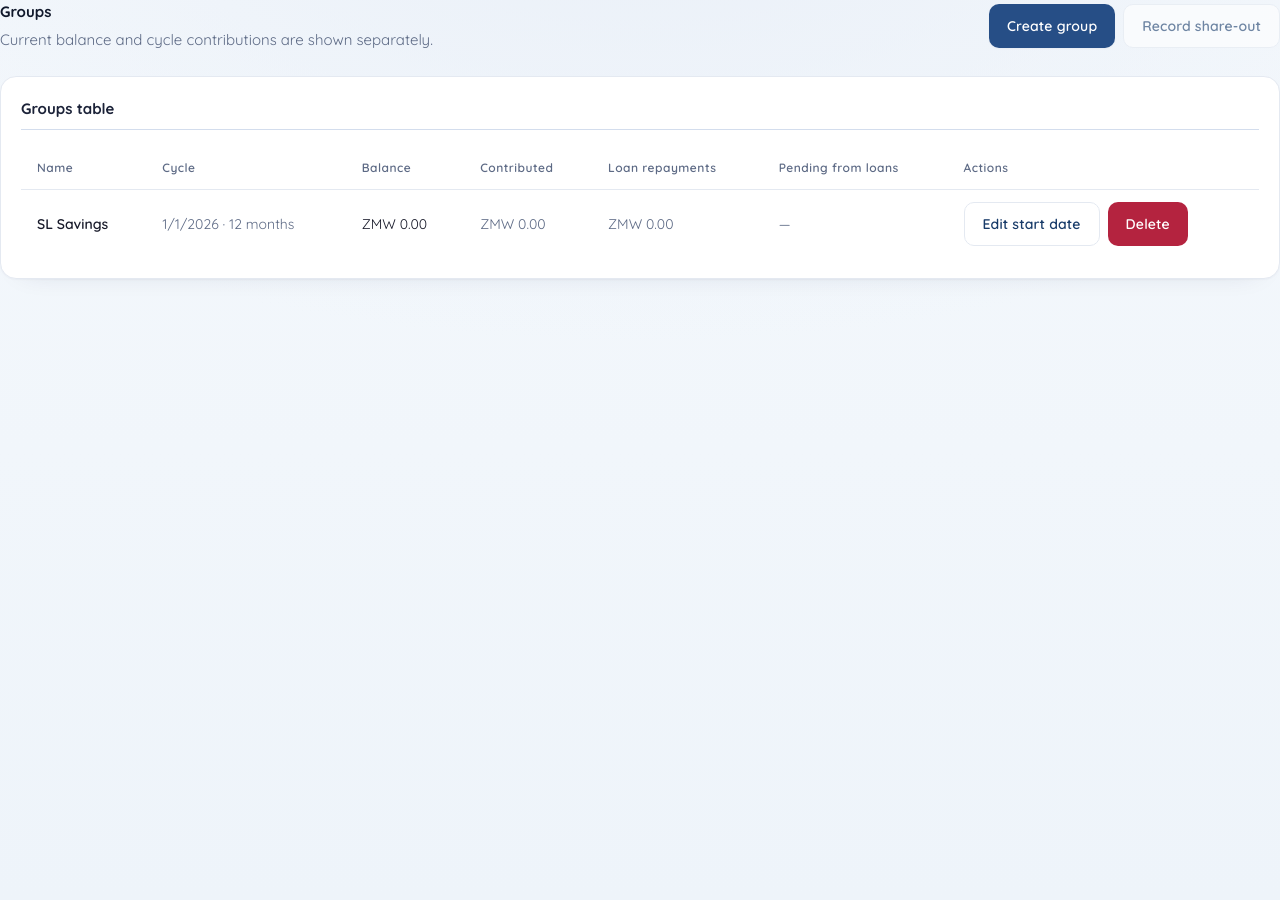
Test: savings group settings › deletes a group that has no savings recorded
Click the button "Delete": (1148, 224) [1108,202,1188,246]
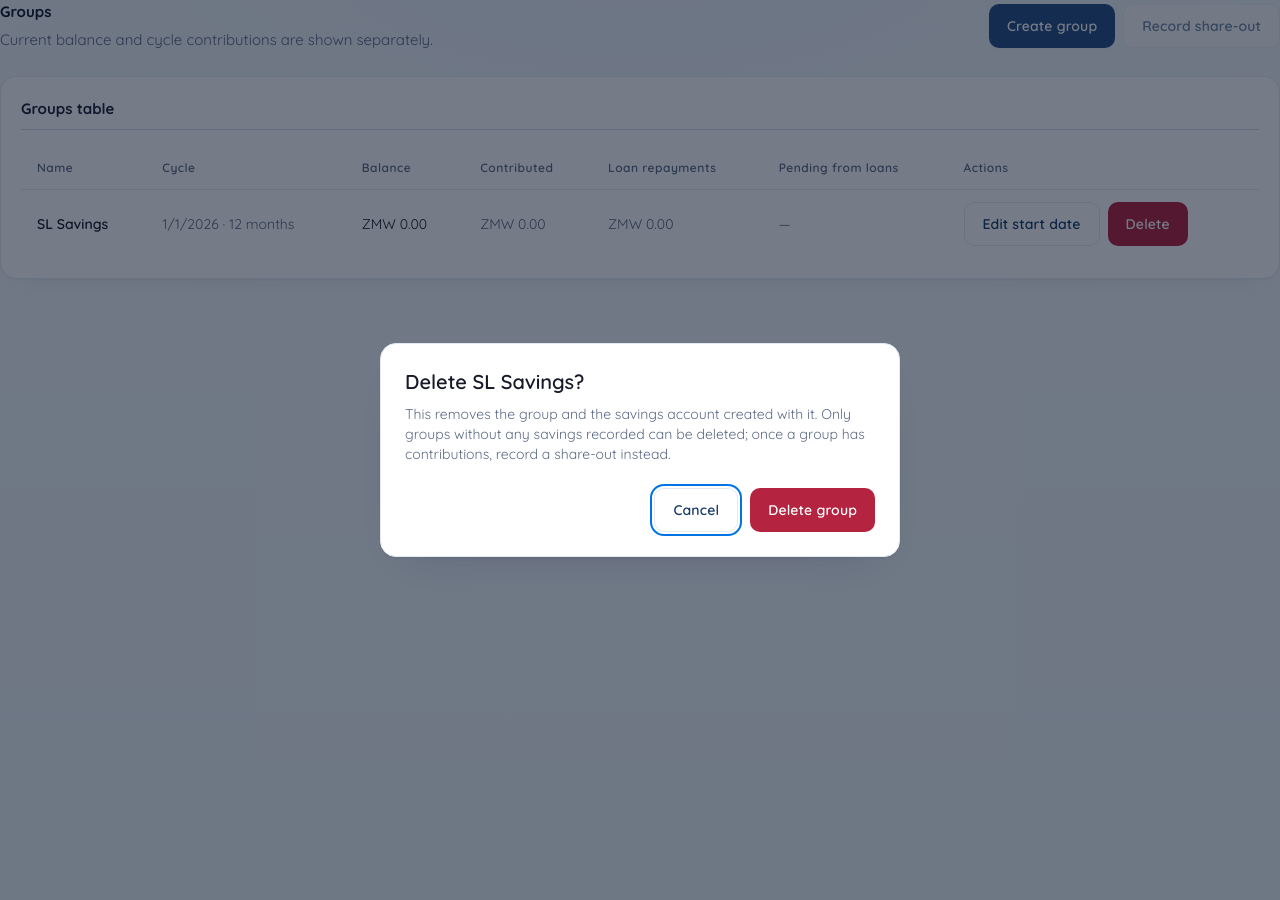
Click the button "Delete group": (813, 510) [750,488,875,532]
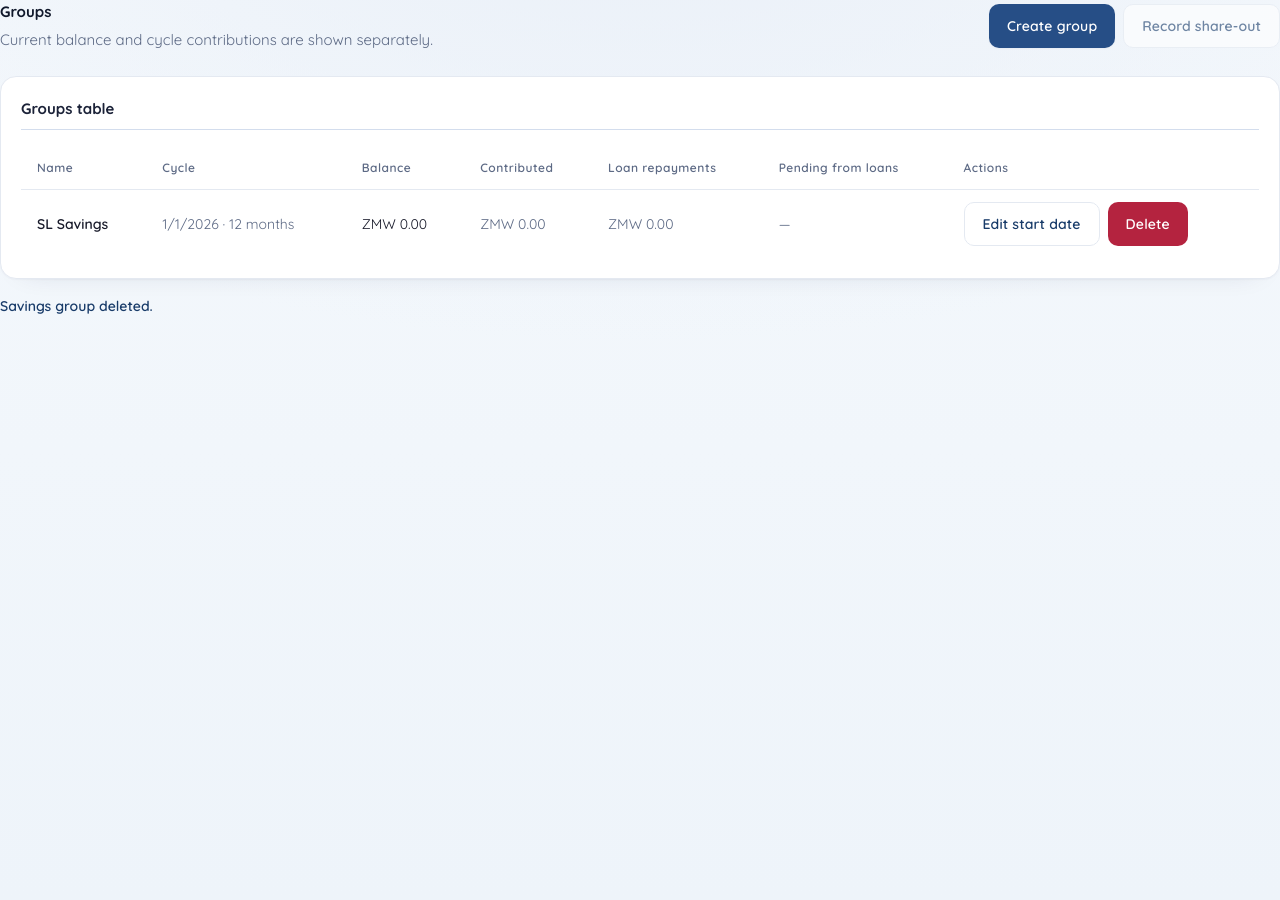
Check: the text "Savings group deleted." is shown, box [0,297,153,315]
